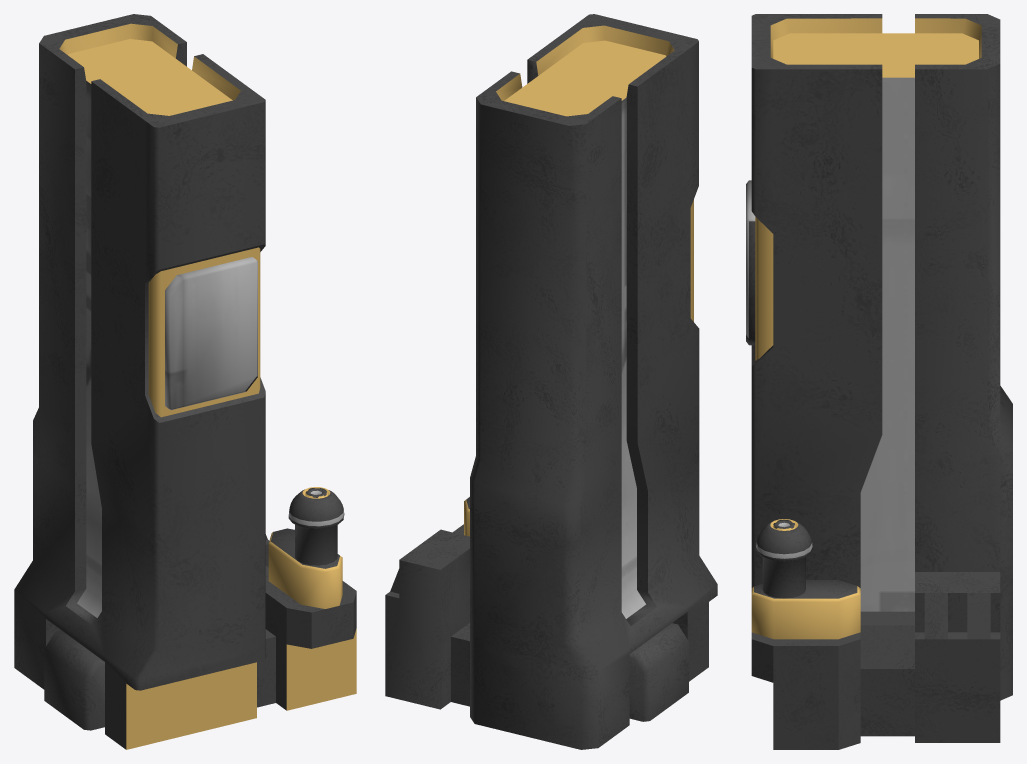
The model's file is NB_Sience_Building_2.fbx.
3 views of the same model, side by side, from view 1: azimuth 30°, elevation 25°; view 2: azimuth 150°, elevation 25°; view 3: azimuth 270°, elevation 25° (orthographic). The views are drawn at different scales.
Visible parts, largest first — view 1: NB_Sience_Building_2; view 2: NB_Sience_Building_2; view 3: NB_Sience_Building_2.
Part boxes in pixels (x1,y1,x2,y2): NB_Sience_Building_2: (14,14,356,749); NB_Sience_Building_2: (385,14,717,749); NB_Sience_Building_2: (746,14,1012,749).
Bounding box in the file's own units: 324 × 800 × 306.
